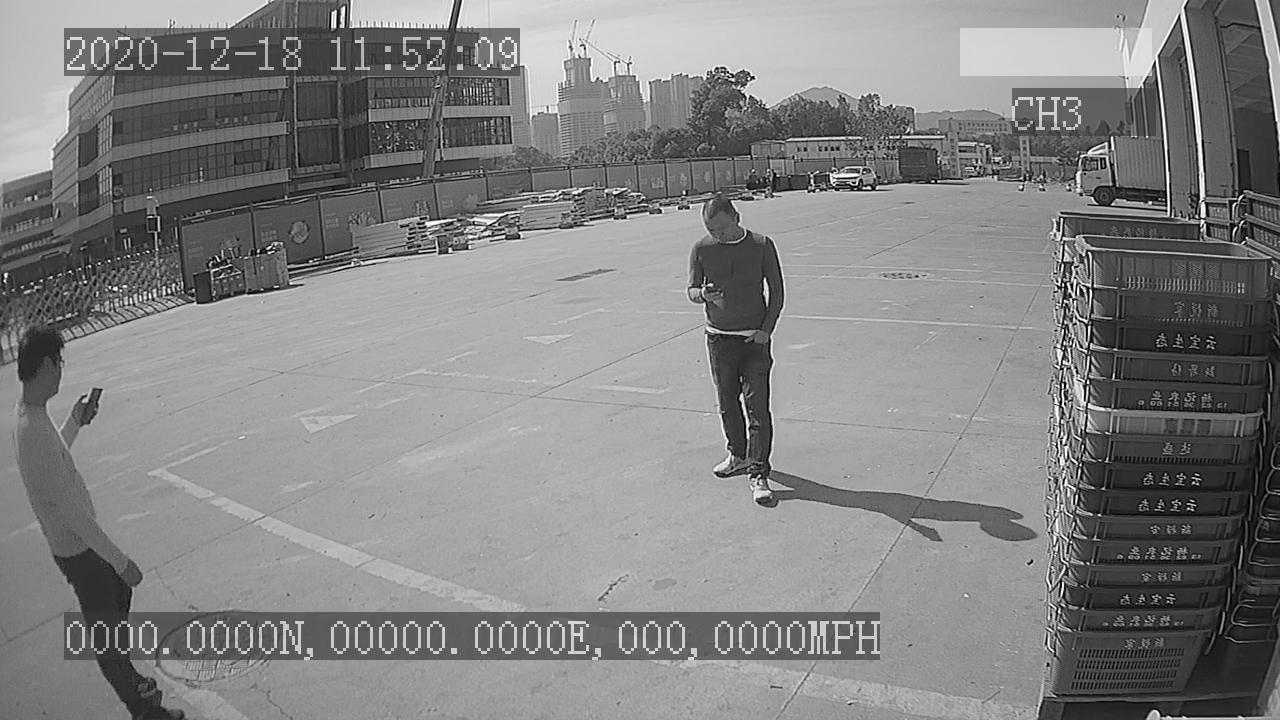person: (677, 188, 792, 508)
